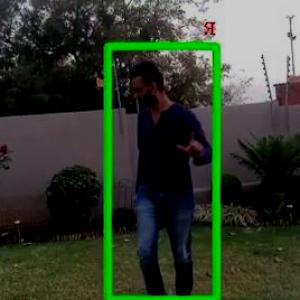land_hand: (173, 127, 206, 161)
